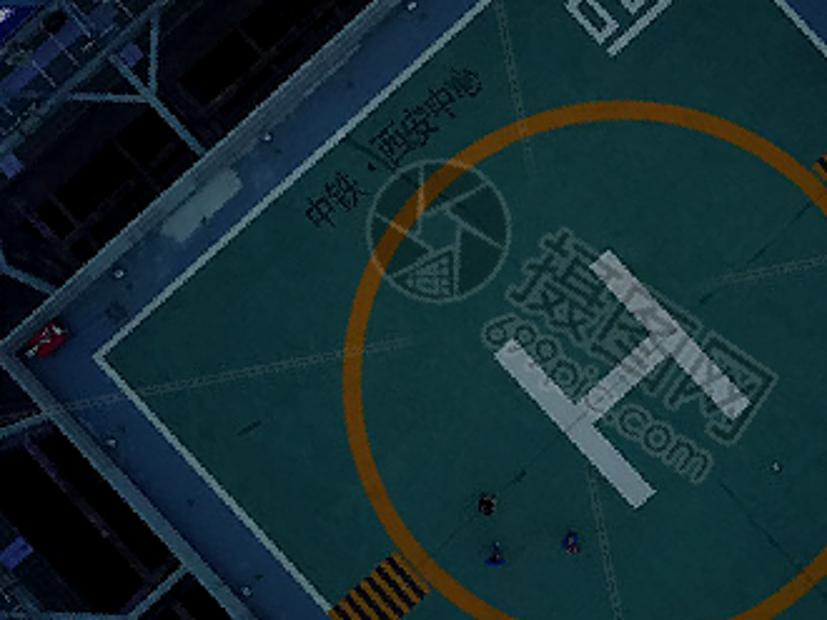Apron: (362, 91, 820, 611)
